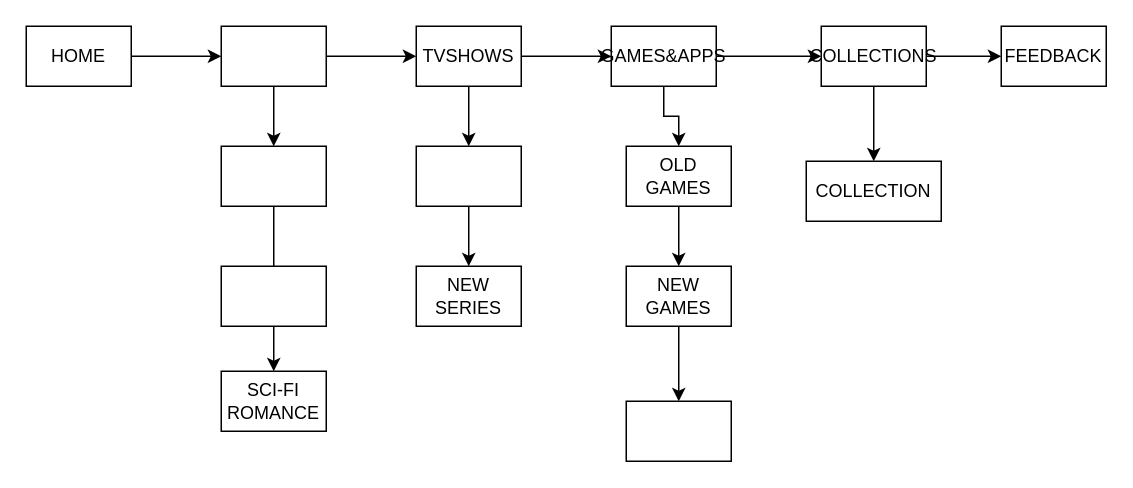
Image size: 1133x488. Some labels were removed from this diagram. The centre of each missing label's shape, as x and y in pixels:
ACTION: the point at 273,175
APPS: the point at 678,430
MOVIES: the point at 273,55
POPULAR SERIES: the point at 468,175
ROMANCE: the point at 273,295
